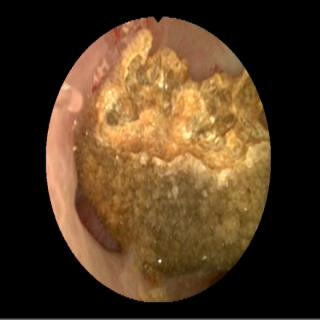stone: (74, 29, 268, 281)
